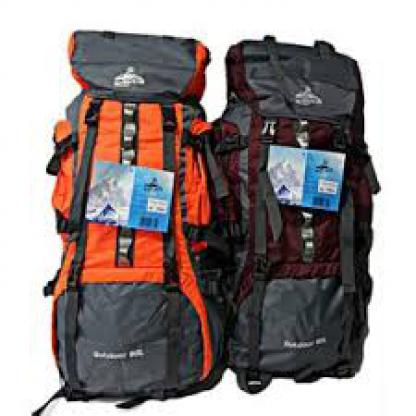morral: (20, 22, 231, 414), (178, 26, 385, 394)
